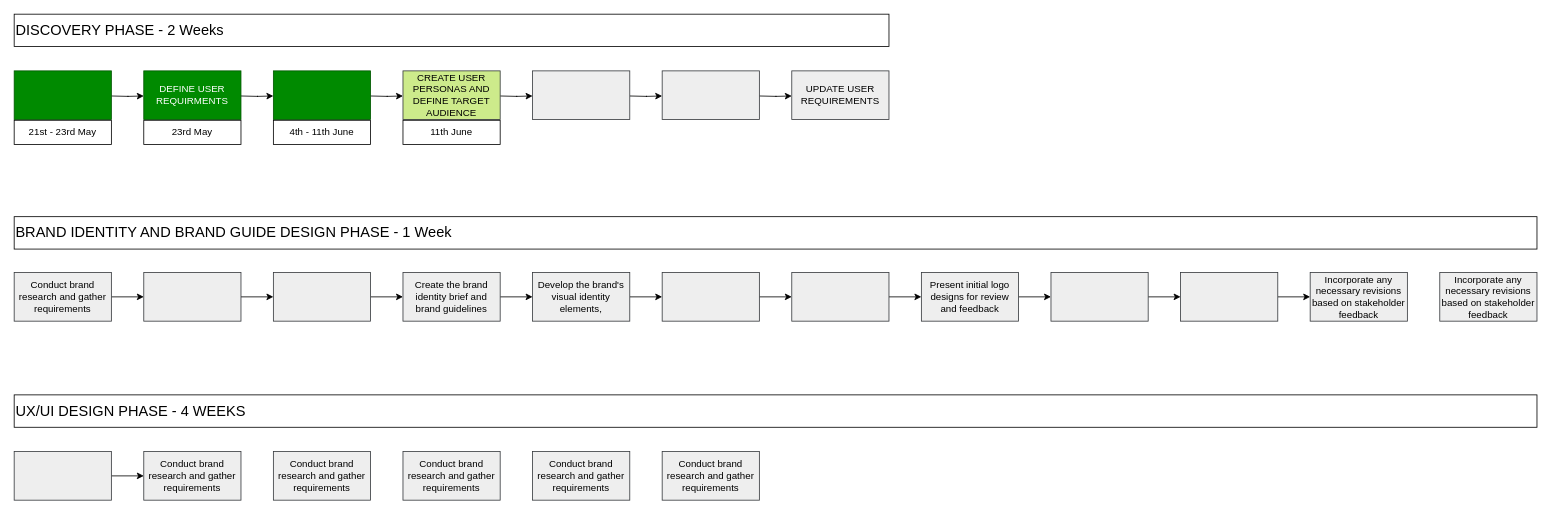
Image size: 1551x514. Some labels were removed from this diagram. Here are the shapes that lost their labels. From the top down, the box of each, then its label:
(13, 70, 111, 119): DEFINE PROJCET GOALS AND OBJECTIVE
(273, 70, 371, 119): CONDUCT USER RESEARCH AND GATHER REQUIREMENTS
(532, 70, 630, 119): CONDUCT COMPETITOR ANALYSIS
(661, 70, 759, 119): UPDATE PROJECT GOALS AND OBJECTIVES
(143, 272, 241, 321): Define the brand positioning, values, and target audience
(273, 272, 371, 321): Analyze competitor branding and market trends.
(661, 272, 759, 321): Define the brand's tone of voice and messaging strategy
(791, 272, 889, 321): Explore various logo concepts and design options
(1050, 272, 1148, 321): Iterate and refine the chosen logo design based on feedback
(1180, 272, 1278, 321): Present the complete brand identity design for review and feedback
(13, 451, 111, 500): Develop information architecture and user flows
